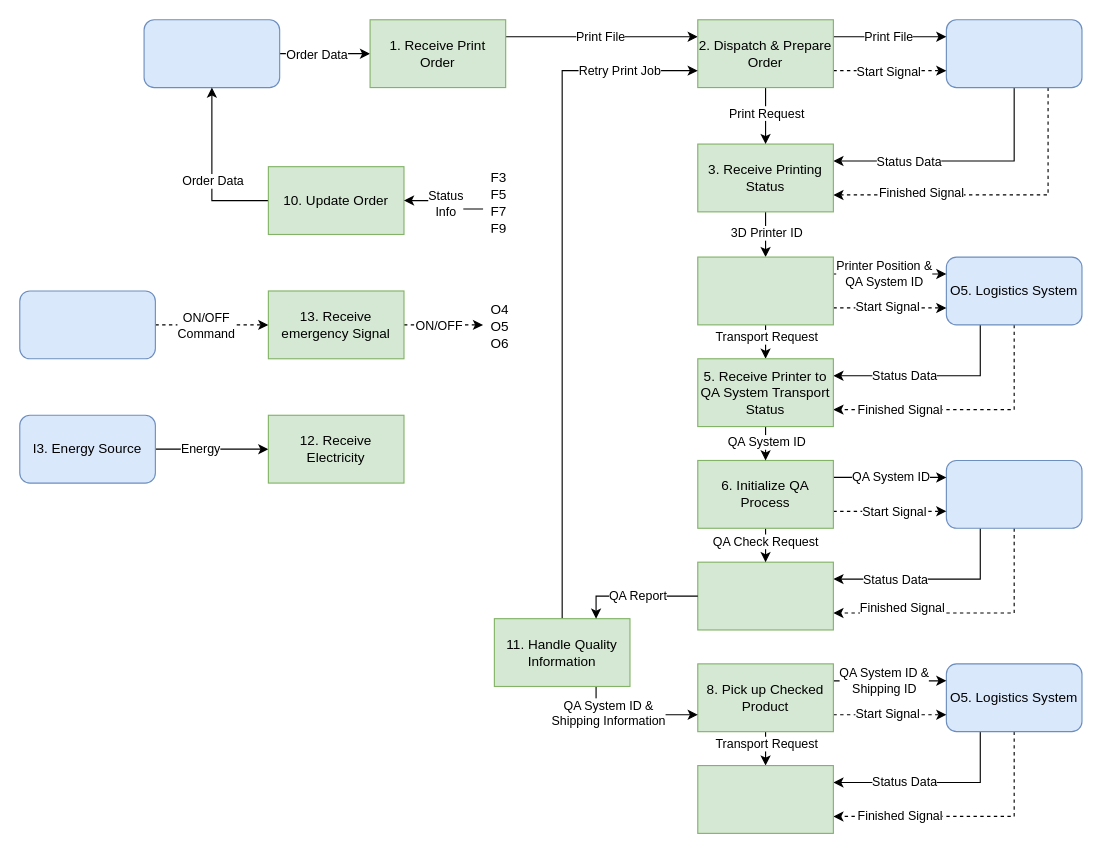
This 1102x853 diagram has some shape labels left out. Each missing label, with the centre of its shape:
4. Pick up Printed Product: point 765,290
7. Receive Quality Data: point 765,595
9. Receive QA to Storage System Transport Status: point 765,798
I1. Order System: point 211,53
I2. User: point 87,324
O4. 3D Printer: point 1013,53
O6. QA System: point 1013,493
